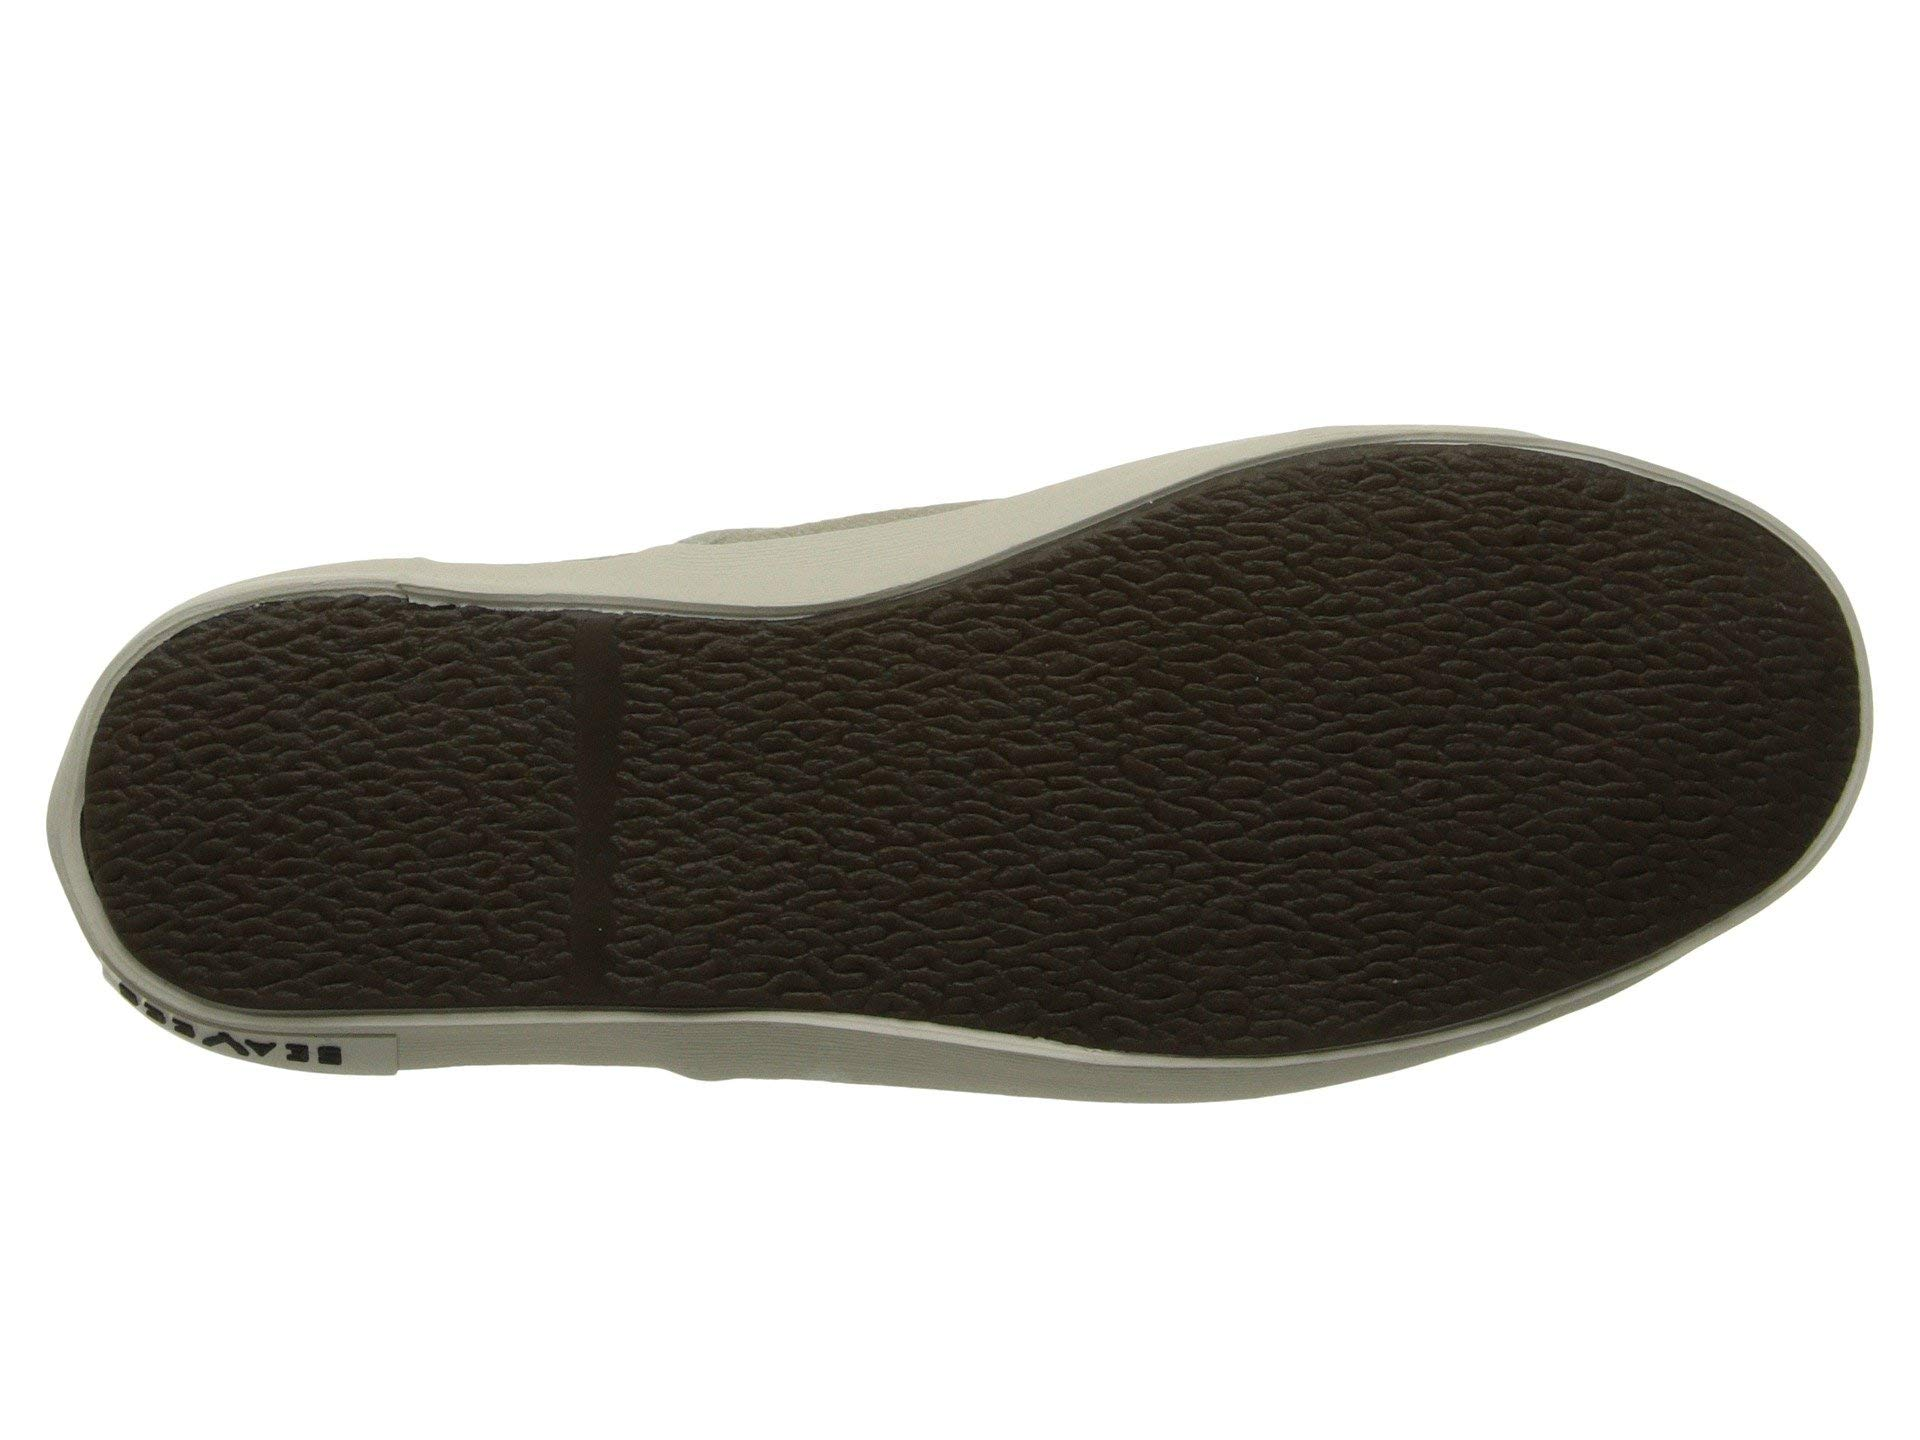line: (266, 616, 1717, 861)
other: (266, 616, 1717, 861)
